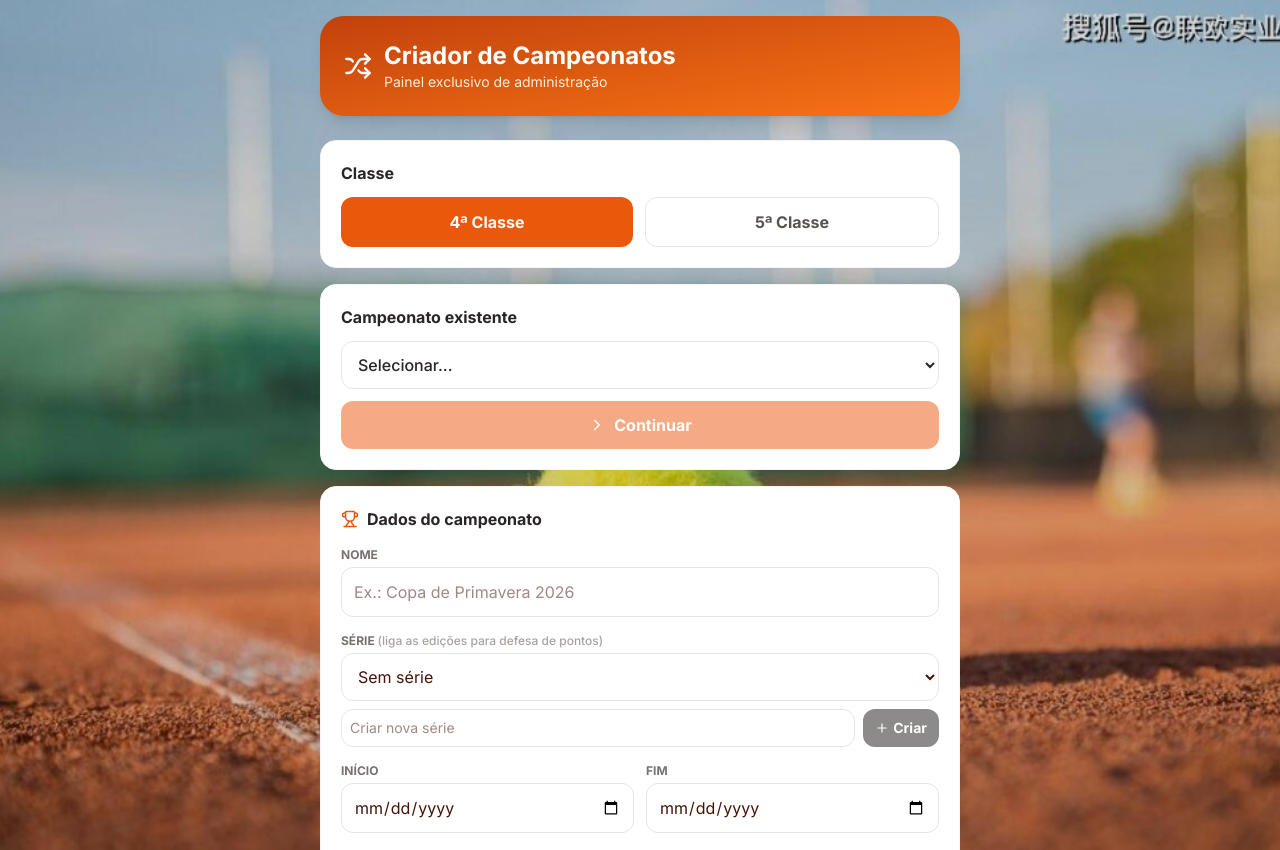
it: ChampionshipCreator — passo inicial › pergunta em qual classe retomar quando o campeonato tem mais de uma
Select "3º Circuito de Inverno (draft)" in the 1st dropdown at point(640, 365), box [341,341,939,389]
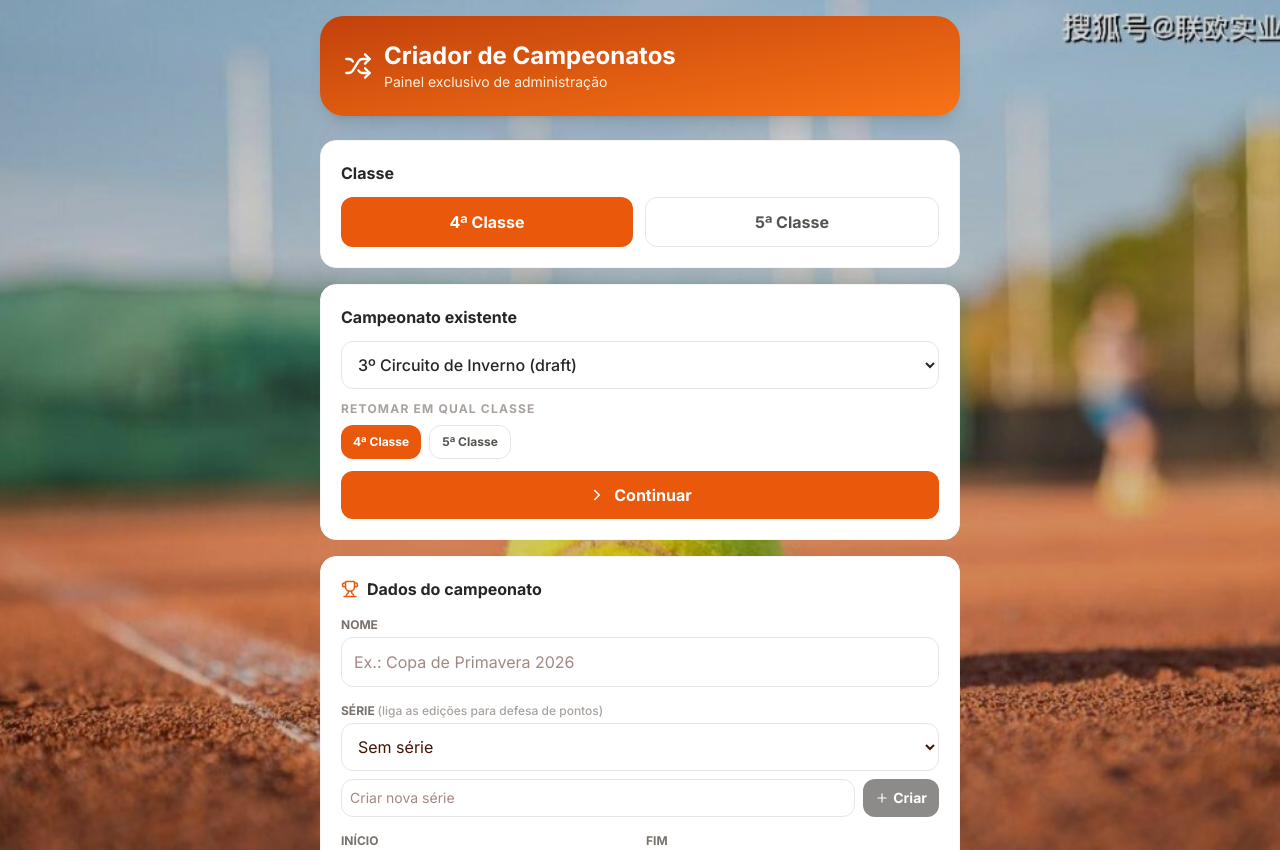
Check: the text "Retomar em qual classe" is shown, box [341,401,536,416]
